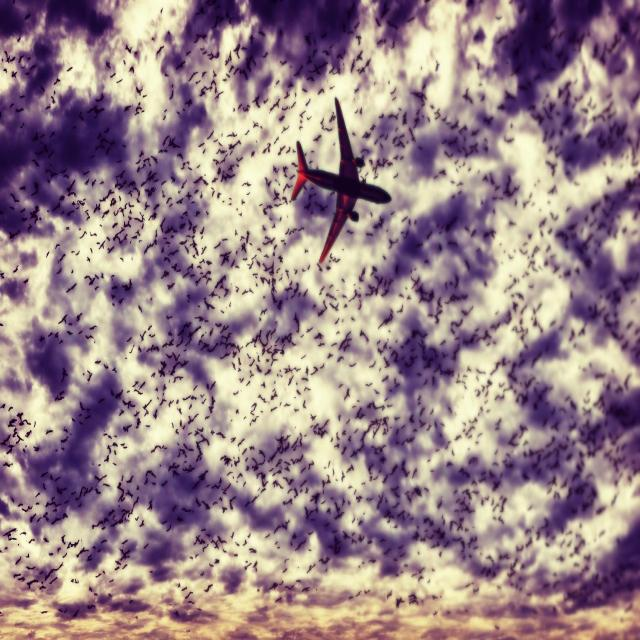airplane: (290, 95, 392, 268)
